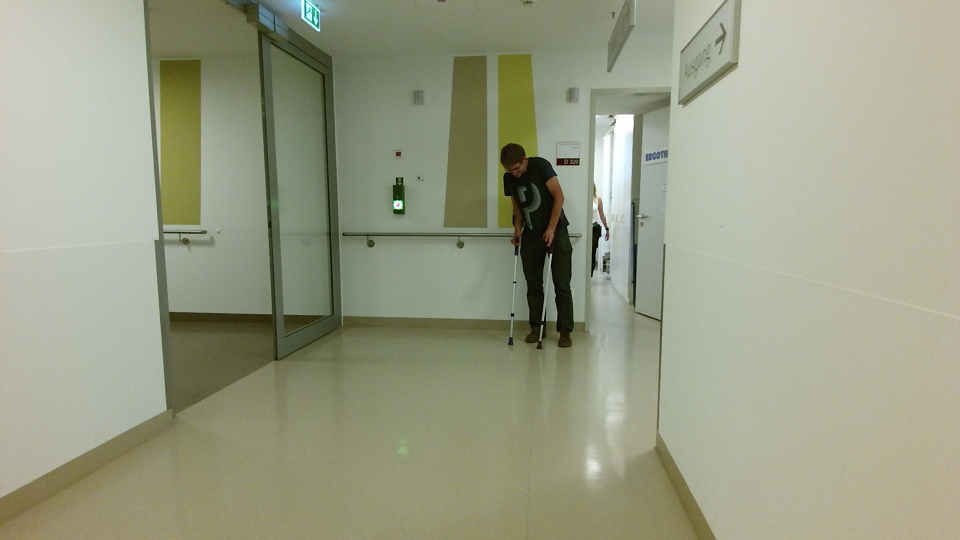crutches: (491, 137, 578, 352)
